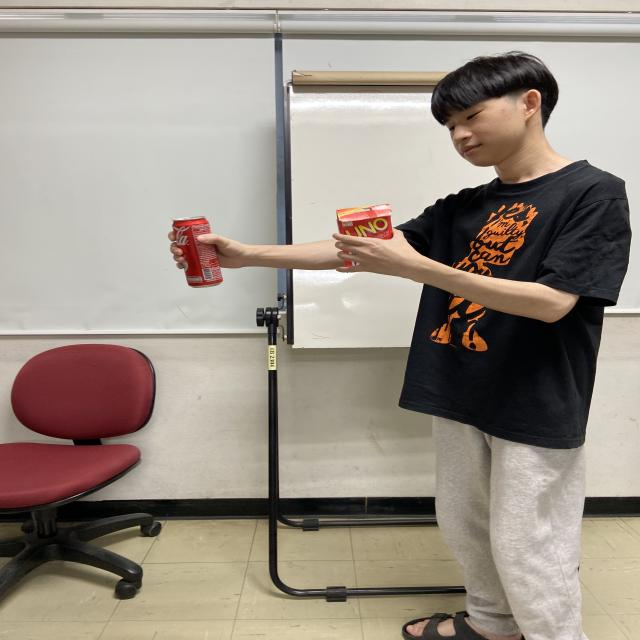can: (170, 214, 226, 290)
